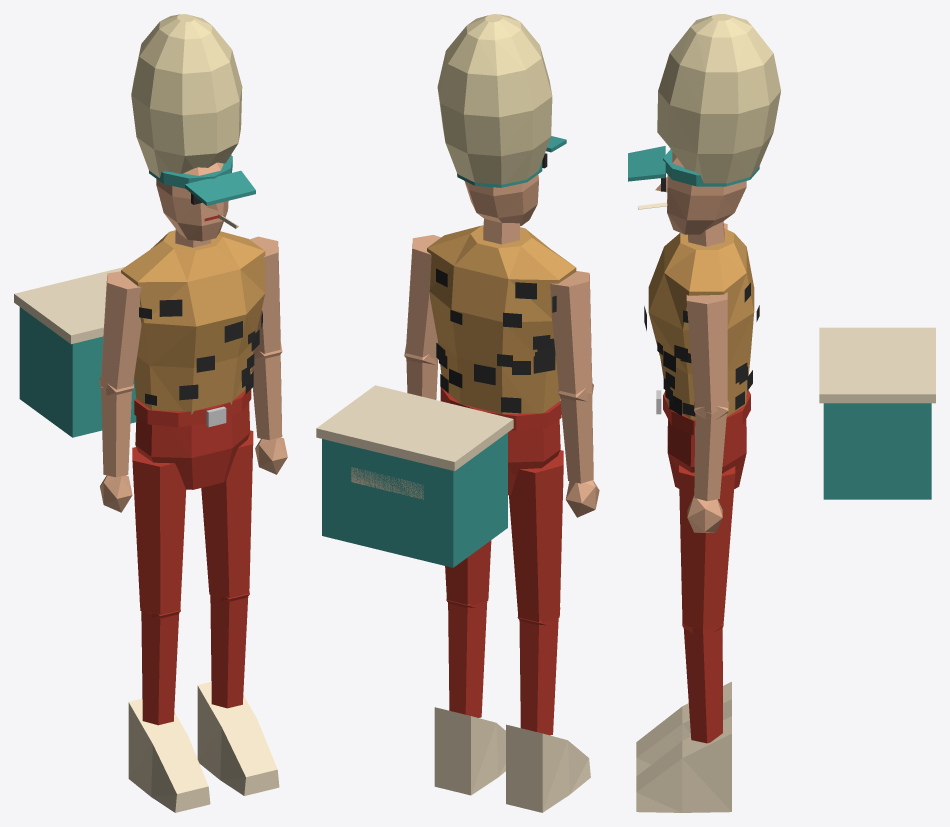
Rendered from tammy-two-stroke.glb.
The picture shows the model from 3 angles, left to right: view 1: azimuth 30°, elevation 25°; view 2: azimuth 150°, elevation 25°; view 3: azimuth 270°, elevation 25°; orthographic projection. The views are drawn at different scales.
Visible parts, largest first — view 1: head_mesh, chest_mesh, prop_mesh, shin_r_mesh, shin_l_mesh, thigh_r_mesh, hips_mesh, thigh_l_mesh, upper_arm_r_mesh, forearm_r_mesh, forearm_l_mesh, upper_arm_l_mesh (+1 smaller); view 2: prop_mesh, head_mesh, chest_mesh, shin_r_mesh, shin_l_mesh, thigh_r_mesh, upper_arm_r_mesh, chest_detail, forearm_r_mesh, hips_mesh, upper_arm_l_mesh, thigh_l_mesh (+1 smaller); view 3: head_mesh, prop_mesh, chest_mesh, shin_l_mesh, thigh_l_mesh, upper_arm_l_mesh, forearm_l_mesh, hips_mesh, shin_r_mesh, chest_detail.
Boxes of the visible parts, x1,y1,x2,y2 form: head_mesh: (131,14,255,247); chest_mesh: (121,230,265,414); prop_mesh: (14,266,136,437); shin_r_mesh: (128,611,210,812); shin_l_mesh: (197,594,279,795); thigh_r_mesh: (132,447,186,618); hips_mesh: (134,389,251,489); thigh_l_mesh: (201,430,253,601); upper_arm_r_mesh: (99,271,141,395); forearm_r_mesh: (100,386,132,512); forearm_l_mesh: (251,354,287,474); upper_arm_l_mesh: (249,236,282,359); prop_mesh: (316,385,513,567); head_mesh: (437,14,566,244); chest_mesh: (427,225,576,414); shin_r_mesh: (506,618,590,812); shin_l_mesh: (434,601,505,795); thigh_r_mesh: (509,450,563,625); upper_arm_r_mesh: (550,271,593,401); chest_detail: (436,268,556,413); forearm_r_mesh: (560,392,599,517); hips_mesh: (440,387,561,495); upper_arm_l_mesh: (404,235,440,364); thigh_l_mesh: (445,540,491,607); head_mesh: (628,14,780,246); prop_mesh: (819,327,935,499); chest_mesh: (648,228,754,419); shin_l_mesh: (636,627,731,812); thigh_l_mesh: (679,465,735,632); upper_arm_l_mesh: (686,292,728,420); forearm_l_mesh: (687,412,726,532); hips_mesh: (663,390,750,489); shin_r_mesh: (636,628,731,776); chest_detail: (644,283,759,416).
Bounding box in the file's own units: 0.5125 × 2.04 × 0.74.
